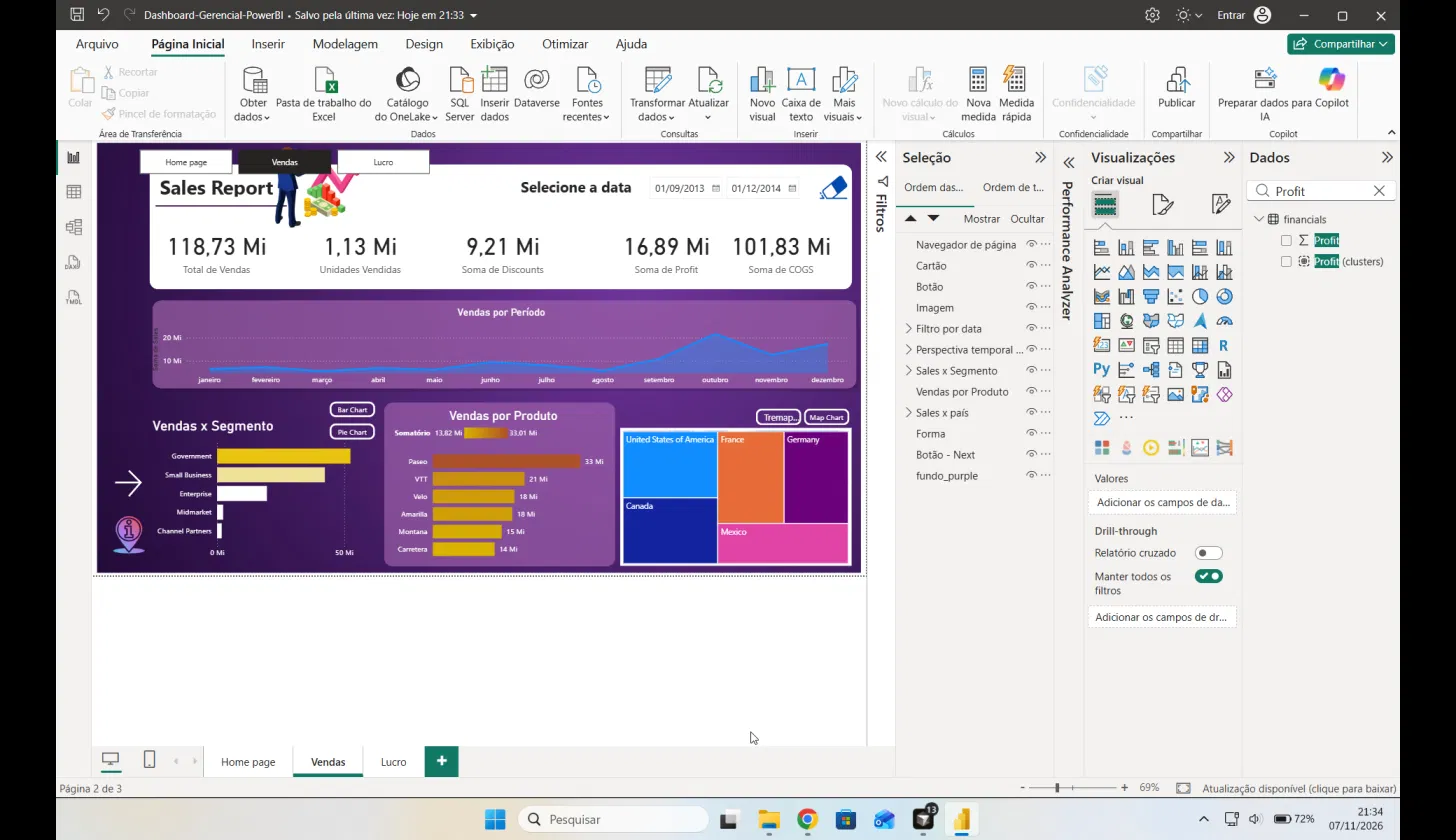

The page's visual inventory and layout, read from the dashboard file:
{"tool":"powerbi","page":{"name":"Vendas","canvas":[1280,720],"ordinal":1},"visuals":[{"type":"image","title":"fundo_purple","box":[0,0,1280.3,720],"z":0},{"type":"shape","box":[95.8,41.1,1161.3,206.6],"z":0,"group":"g4"},{"type":"shape","box":[90.5,255.5,1181.8,163.7],"z":0,"group":"g3"},{"type":"map","title":"Sales x Country","fields":{"Category":["financials.Country"],"Size":["Sum(financials. Sales)"]},"box":[873.8,476.1,382,228.1],"z":0,"group":"g1"},{"type":"shape","box":[105.6,92.3,216.7,32.8],"z":1000,"group":"g4"},{"type":"areaChart","title":"Vendas por Período","fields":{"Category":["financials.Date.Variation.Hierarquia de datas.Trimestre","financials.Date.Variation.Hierarquia de datas.Mês"],"Y":["Sum(financials. Sales)"]},"box":[94.3,274.7,1163.2,139.7],"z":1000,"group":"g3"},{"type":"clusteredBarChart","title":"Vendas x Segmento","fields":{"Category":["financials.Segment"],"Y":["Sum(financials. Sales)"]},"box":[94.9,459.3,383.9,242.3],"z":1000,"group":"g2"},{"type":"treemap","title":"Sales x Country","fields":{"Group":["financials.Country"],"Values":["Sum(financials. Sales)"]},"box":[873.8,477.5,382,228.1],"z":1000,"group":"g1"},{"type":"actionButton","title":"Botão - Next","box":[32.4,539.2,58,56.3],"z":1000},{"type":"slicer","fields":{"Values":["financials.Date"]},"box":[909.9,50.5,272.2,55.6],"z":2000,"group":"g4"},{"type":"actionButton","title":"Botão - bar","box":[393.4,432.9,75.1,25.6],"z":2000,"group":"g2"},{"type":"shape","box":[482.9,433.4,382.2,271.3],"z":2000},{"type":"actionButton","title":"Botão - map","box":[1177.5,444.2,75.1,27.3],"z":2000,"group":"g1"},{"type":"textbox","box":[704.6,56.2,199.6,45.6],"z":3000,"group":"g4"},{"type":"group","id":"g1","title":"Sales x país","box":[873.8,444.2,382,261.4],"z":3000},{"type":"actionButton","title":"Botão - tremap","box":[1097.3,444.2,75.1,27.3],"z":3000,"group":"g1"},{"type":"actionButton","title":"Botão -pie","box":[393.2,469.1,74.8,26.6],"z":3000,"group":"g2"},{"type":"card","fields":{"Values":["Sum(financials.Units Sold)"]},"box":[338.3,130.3,211,105.5],"z":4000,"group":"g4"},{"type":"clusteredBarChart","title":"Vendas por Produto","fields":{"Category":["financials.Product"],"Y":["Sum(financials. Sales)"]},"box":[496.5,443.6,368.5,261.1],"z":4000},{"type":"textbox","box":[107,50.9,215.2,48.5],"z":5000,"group":"g4"},{"type":"group","id":"g2","title":"Sales x Segmento","box":[94.9,429.7,387.6,271.8],"z":5000},{"type":"actionButton","box":[1196.4,54.7,59.9,51.3],"z":6000,"group":"g4"},{"type":"group","id":"g3","title":"Perspectiva temporal das vendas","box":[90.5,255.5,1181.8,163.7],"z":6000},{"type":"group","id":"g4","title":"Filtro por data","box":[95.8,0,1161.3,247.7],"z":7000},{"type":"image","title":"clean","box":[1196.4,50.5,59.9,55.6],"z":8000,"group":"g4"},{"type":"image","box":[26.1,615.8,71.5,72.9],"z":8000},{"type":"card","fields":{"Values":["Sum(financials.Discounts)"]},"box":[574.9,130.3,211,105.5],"z":9000,"group":"g4"},{"type":"actionButton","box":[31.6,615.8,63.2,72.9],"z":9000},{"type":"card","fields":{"Values":["Sum(financials.Profit)"]},"box":[844.2,130.2,211,105.5],"z":10000},{"type":"card","fields":{"Values":["Sum(financials.COGS)"]},"box":[1033.9,130.3,211,105.5],"z":10000,"group":"g4"},{"type":"pageNavigator","box":[80,16,480,40],"z":11000},{"type":"card","fields":{"Values":["Sum(financials. Sales)"]},"box":[101.7,130.3,211,105.5],"z":11000,"group":"g4"},{"type":"image","box":[265.1,0,252.9,155.7],"z":12000,"group":"g4"}]}

Visuals, with their boxes on the page's 1280x720 design canvas (x1, y1, x2, y2). These are canvas units, not pixel positions in the 1456x840 screenshot, which may show the page scaled, cropped or inside an application window:
"fundo_purple" image: pyautogui.locateOnScreen(0, 0, 1280, 720)
shape: pyautogui.locateOnScreen(96, 41, 1257, 248)
shape: pyautogui.locateOnScreen(90, 256, 1272, 419)
"Sales x Country" map: pyautogui.locateOnScreen(874, 476, 1256, 704)
shape: pyautogui.locateOnScreen(106, 92, 322, 125)
"Vendas por Período" areaChart: pyautogui.locateOnScreen(94, 275, 1258, 414)
"Vendas x Segmento" clusteredBarChart: pyautogui.locateOnScreen(95, 459, 479, 702)
"Sales x Country" treemap: pyautogui.locateOnScreen(874, 478, 1256, 706)
"Botão - Next" actionButton: pyautogui.locateOnScreen(32, 539, 90, 596)
slicer - financials.Date: pyautogui.locateOnScreen(910, 50, 1182, 106)
"Botão - bar" actionButton: pyautogui.locateOnScreen(393, 433, 468, 458)
shape: pyautogui.locateOnScreen(483, 433, 865, 705)
"Botão - map" actionButton: pyautogui.locateOnScreen(1178, 444, 1253, 472)
textbox: pyautogui.locateOnScreen(705, 56, 904, 102)
"Sales x país" group: pyautogui.locateOnScreen(874, 444, 1256, 706)
"Botão - tremap" actionButton: pyautogui.locateOnScreen(1097, 444, 1172, 472)
"Botão -pie" actionButton: pyautogui.locateOnScreen(393, 469, 468, 496)
card - Sum(financials.Units Sold): pyautogui.locateOnScreen(338, 130, 549, 236)
"Vendas por Produto" clusteredBarChart: pyautogui.locateOnScreen(496, 444, 865, 705)
textbox: pyautogui.locateOnScreen(107, 51, 322, 99)
"Sales x Segmento" group: pyautogui.locateOnScreen(95, 430, 482, 702)
actionButton: pyautogui.locateOnScreen(1196, 55, 1256, 106)
"Perspectiva temporal das vendas" group: pyautogui.locateOnScreen(90, 256, 1272, 419)
"Filtro por data" group: pyautogui.locateOnScreen(96, 0, 1257, 248)
"clean" image: pyautogui.locateOnScreen(1196, 50, 1256, 106)
image: pyautogui.locateOnScreen(26, 616, 98, 689)
card - Sum(financials.Discounts): pyautogui.locateOnScreen(575, 130, 786, 236)
actionButton: pyautogui.locateOnScreen(32, 616, 95, 689)
card - Sum(financials.Profit): pyautogui.locateOnScreen(844, 130, 1055, 236)
card - Sum(financials.COGS): pyautogui.locateOnScreen(1034, 130, 1245, 236)
pageNavigator: pyautogui.locateOnScreen(80, 16, 560, 56)
card - Sum(financials. Sales): pyautogui.locateOnScreen(102, 130, 313, 236)
image: pyautogui.locateOnScreen(265, 0, 518, 156)
